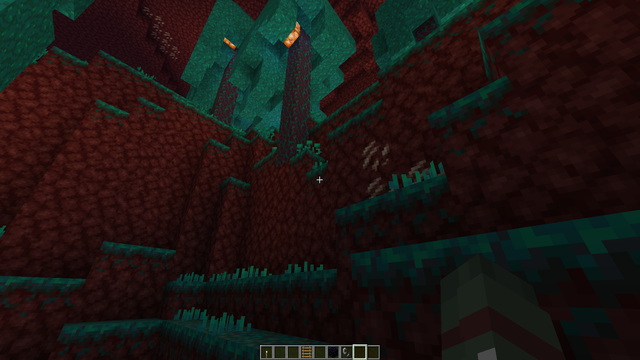quartz: (356, 140, 447, 203), (138, 2, 182, 68)
